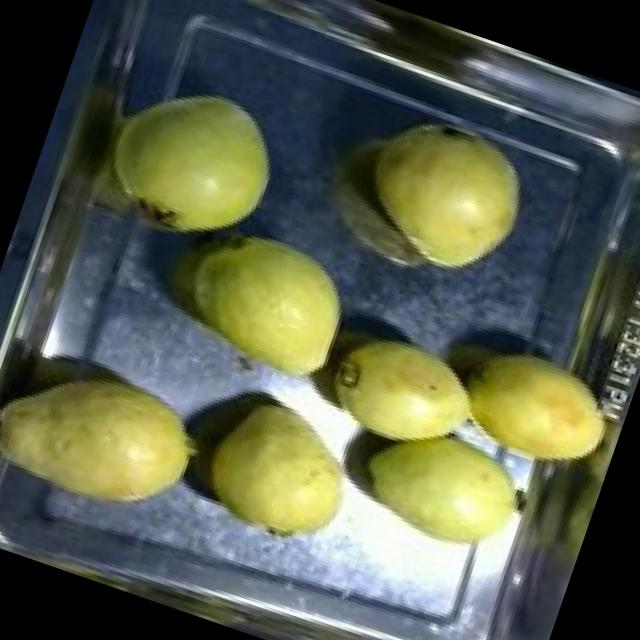Fruit: (0, 322, 226, 553), (137, 196, 380, 405), (395, 304, 640, 506), (80, 60, 302, 272), (325, 390, 555, 594), (336, 92, 552, 300), (174, 372, 382, 574), (294, 311, 500, 484)
